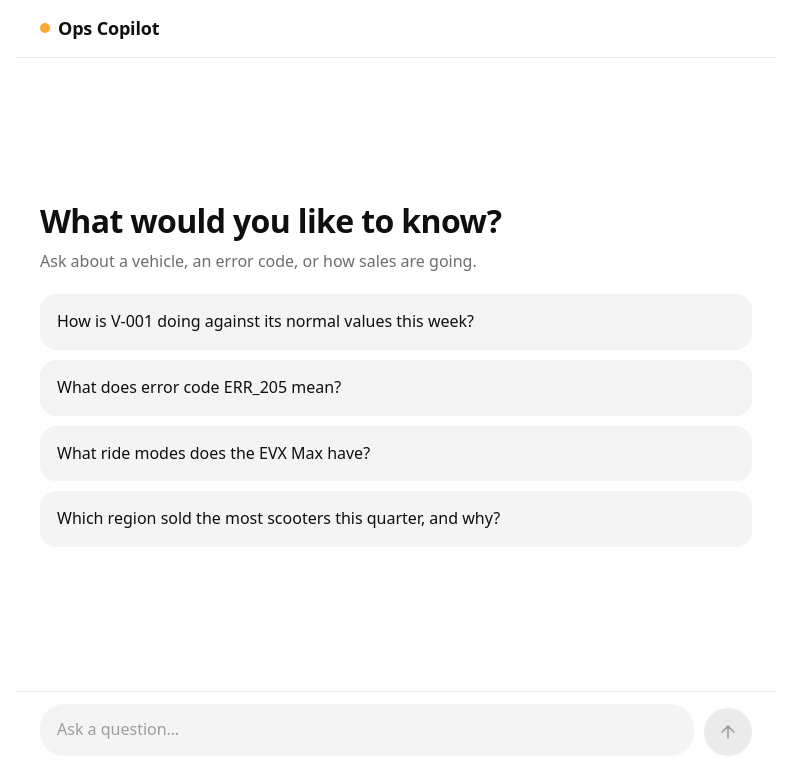
Test: asking a question › keeps the reasoning folded away until asked for
Type "Why did range drop?" into the text box named "Your question" at (367, 730), box x1=40 y1=704 x2=694 y2=756
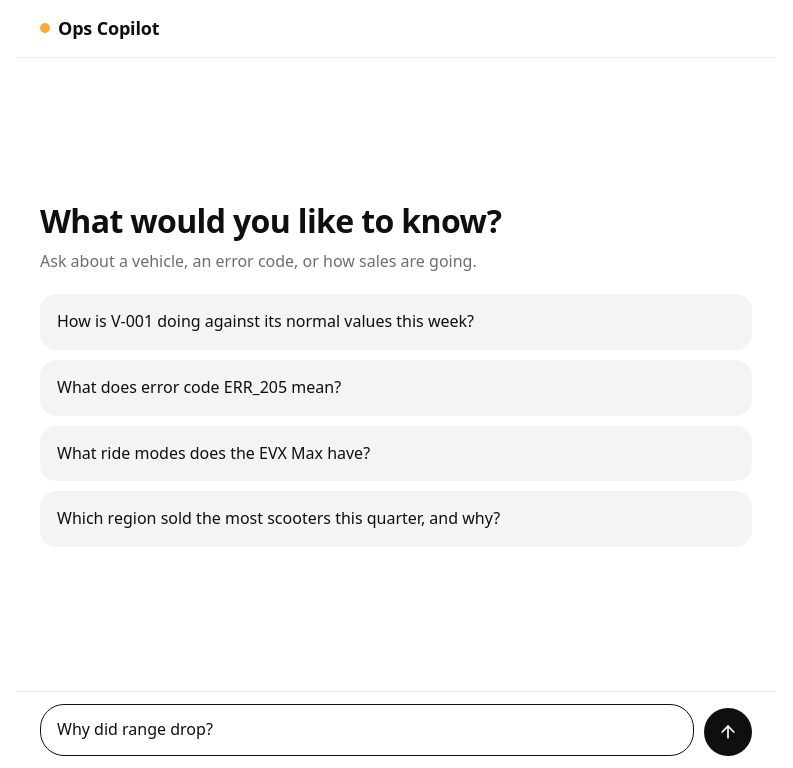
Click the button named "Send" at (728, 732), box x1=704 y1=708 x2=752 y2=756
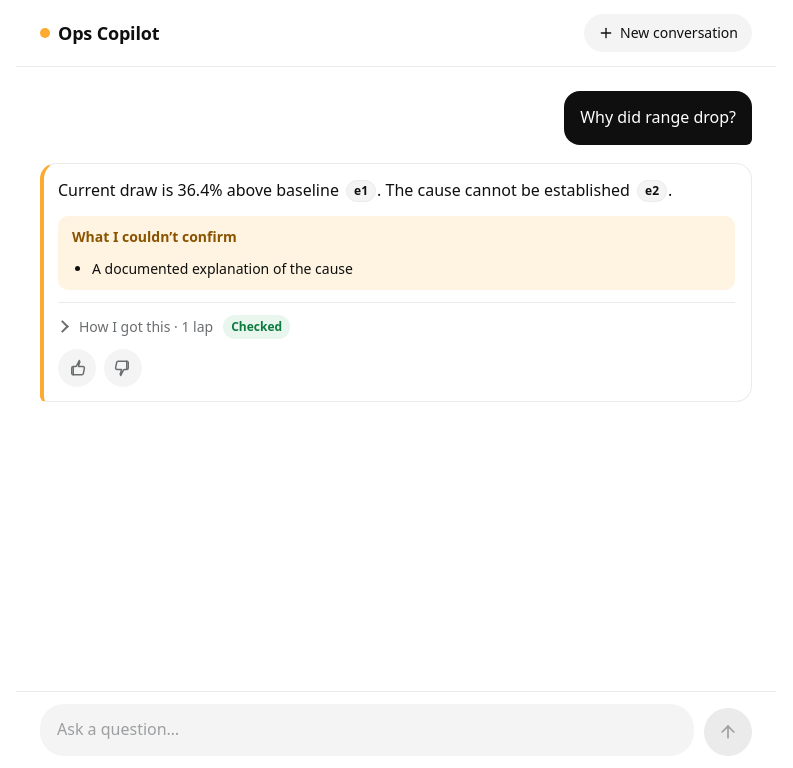
Click the heading "How I got this · 1 lap Checked" at (185, 327), box x1=79 y1=315 x2=290 y2=339
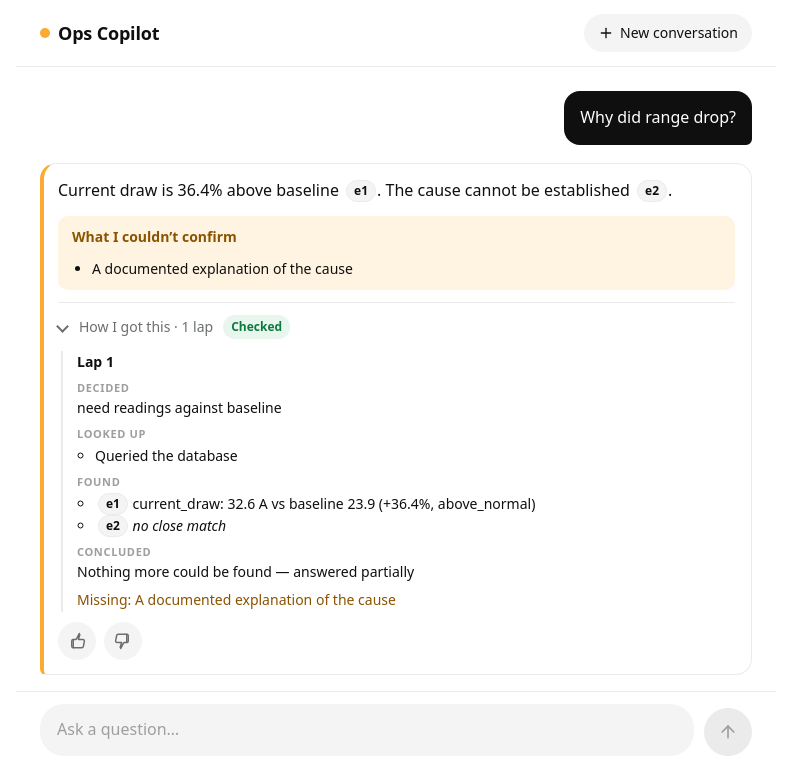
Now the text "Lap 1" is shown, box x1=77 y1=352 x2=114 y2=370
Now the text "Concluded Nothing more could be found — answered partially" is shown, box x1=77 y1=544 x2=414 y2=581
